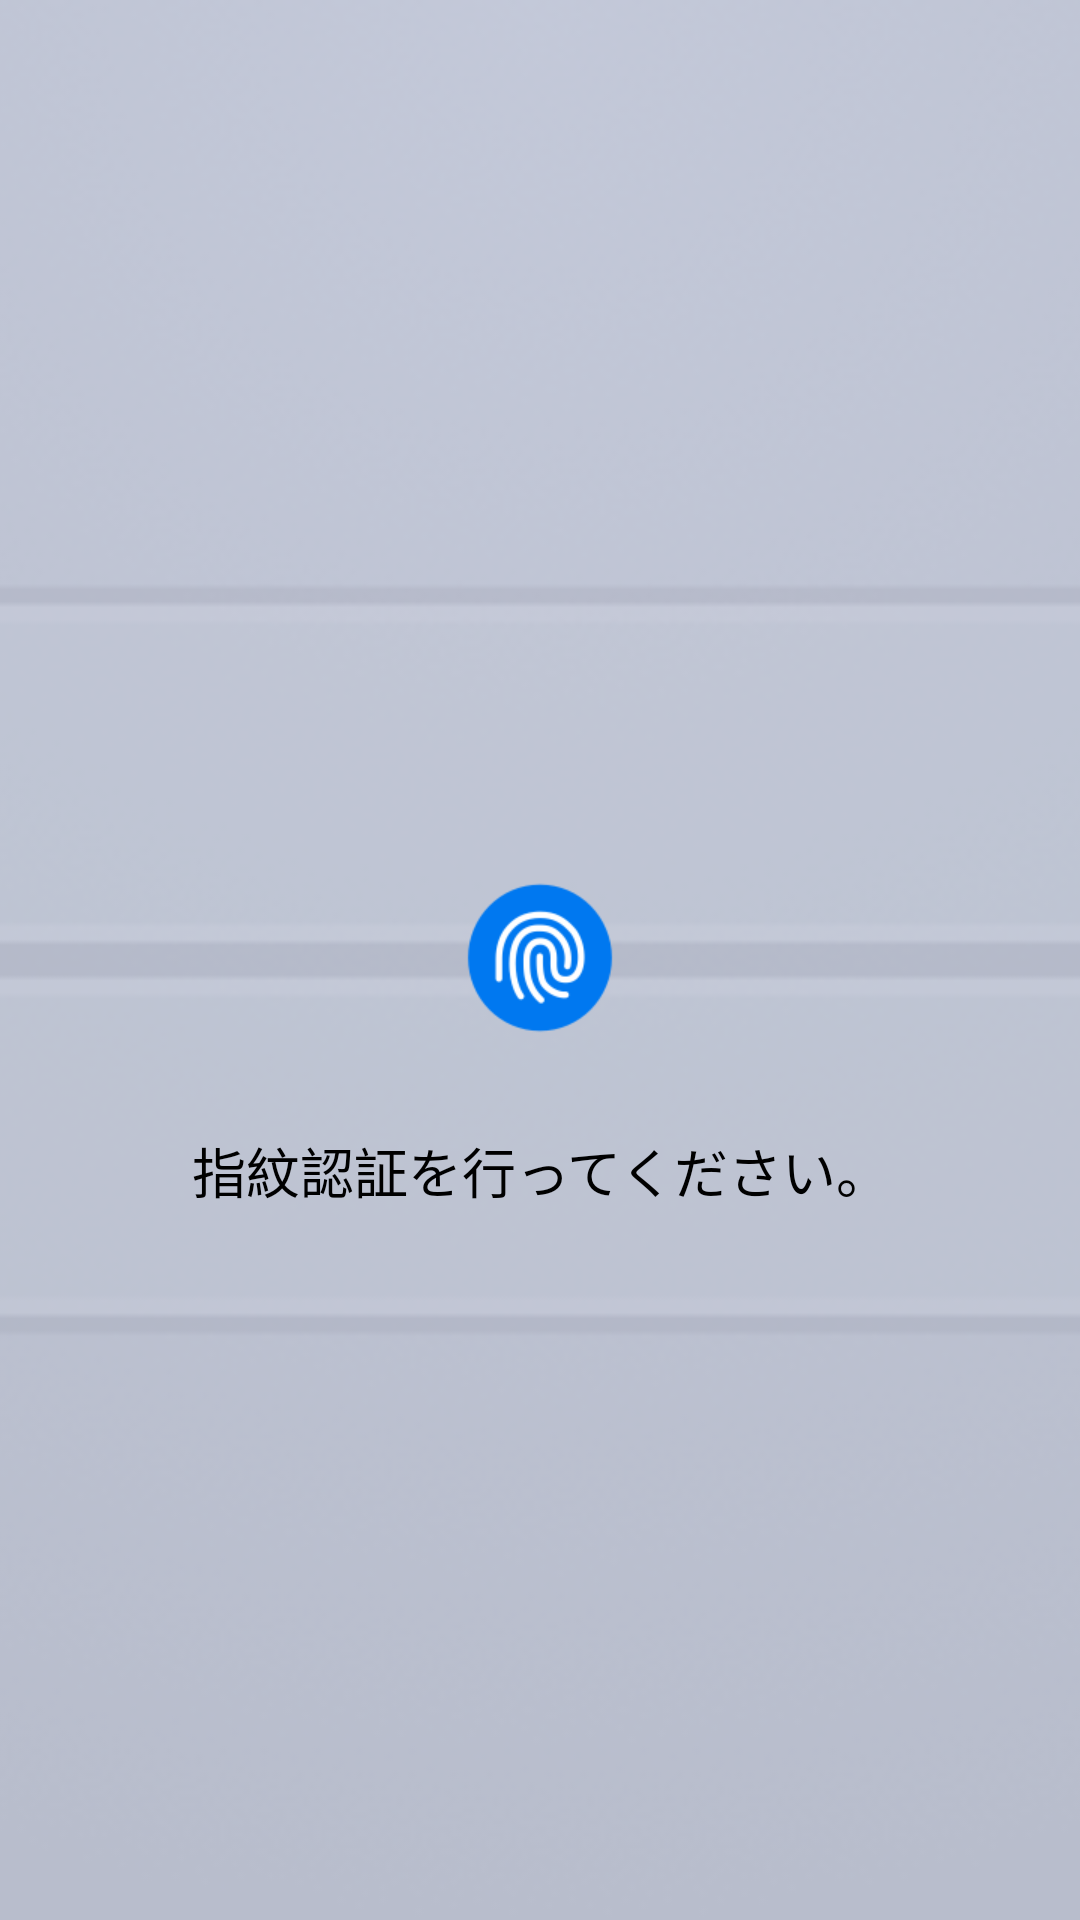

Locate icon controls on the screen. Image size 1080x1920, boxes as (x1, y1, x2, y2).
settings fingerprint: (467, 884, 613, 1032)
